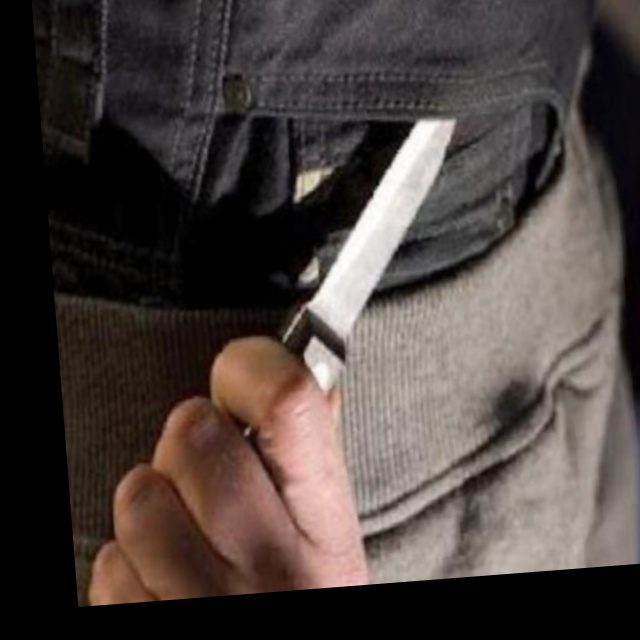Sharp-Object: (225, 119, 482, 440)
